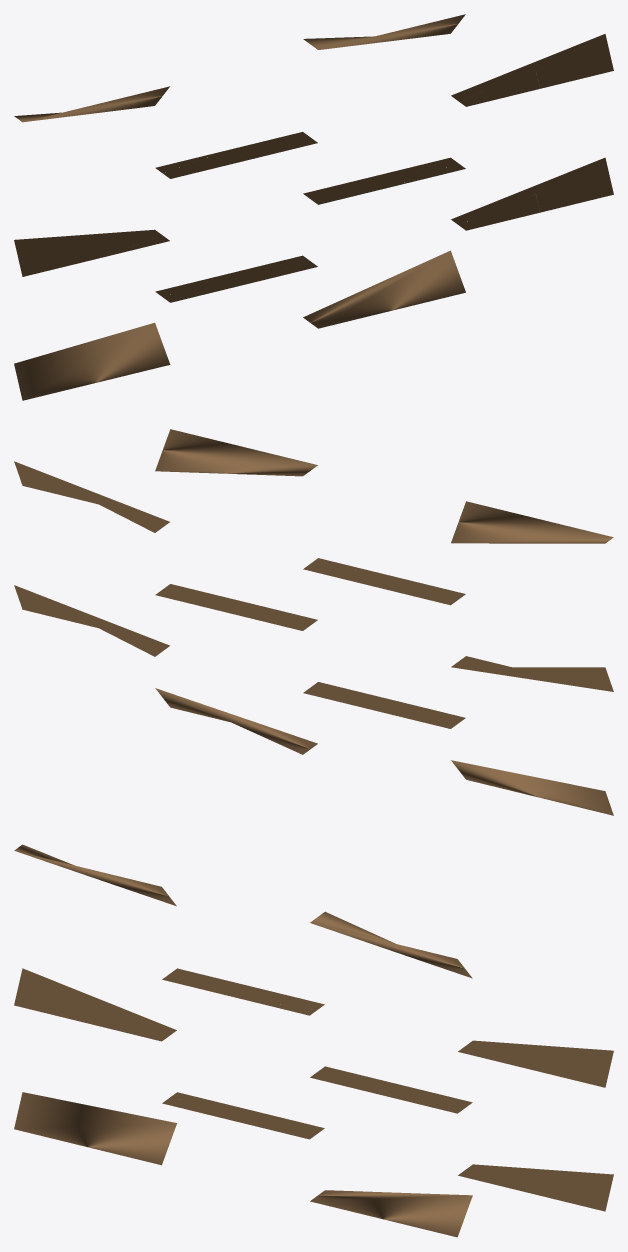
Rendered from fence_wattle_lod1.glb.
3 views of the same model, one above another, from view 1: azimuth 30°, elevation 25°; view 2: azimuth 150°, elevation 25°; view 3: azimuth 330°, elevation 25° (orthographic).
Size of the model in its own units: 2 by 0.9 by 0.09.
